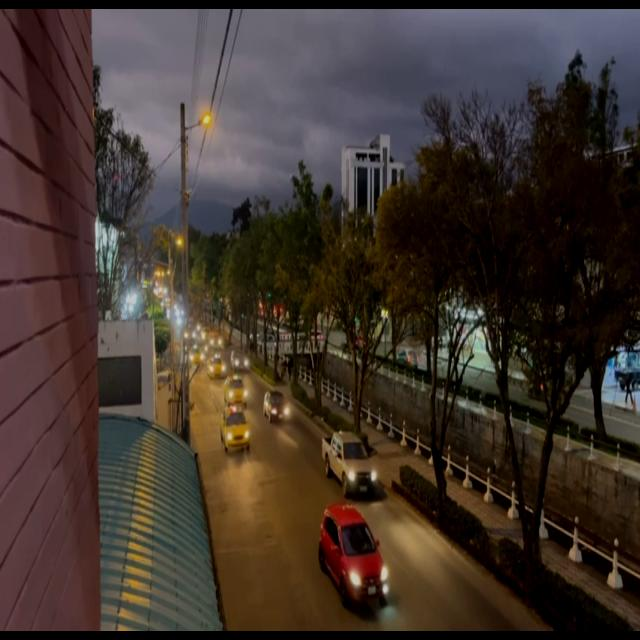CMT: (322, 427, 380, 499)
SED: (319, 507, 391, 609), (220, 408, 250, 450), (264, 392, 290, 424), (224, 379, 250, 406), (207, 356, 225, 380)
